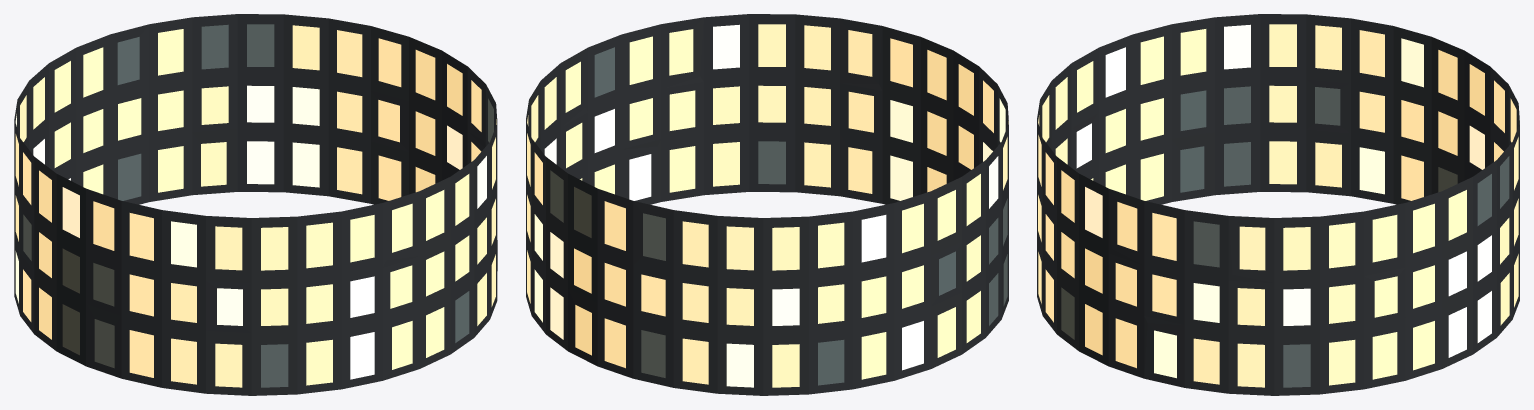
Rendered from SM_Bld_OfficeRound_04.fbx.
The picture shows the model from 3 angles, left to right: view 1: azimuth 30°, elevation 25°; view 2: azimuth 150°, elevation 25°; view 3: azimuth 270°, elevation 25°; orthographic projection.
Visible parts, largest first — view 1: SM_Bld_OfficeRound_04; view 2: SM_Bld_OfficeRound_04; view 3: SM_Bld_OfficeRound_04.
Boxes of the visible parts, x1,y1,x2,y2 form: SM_Bld_OfficeRound_04: (14, 14, 497, 395); SM_Bld_OfficeRound_04: (526, 14, 1008, 395); SM_Bld_OfficeRound_04: (1037, 14, 1519, 395).
Bounding box in the file's own units: 2204 × 896 × 2205.
